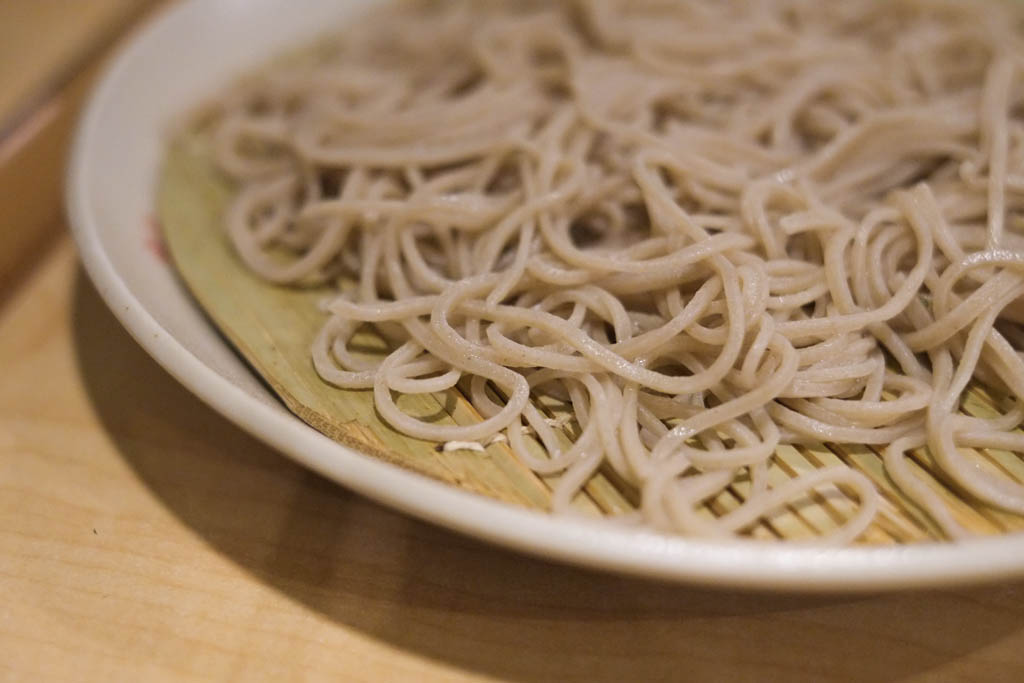Soba: (195, 19, 1024, 541)
